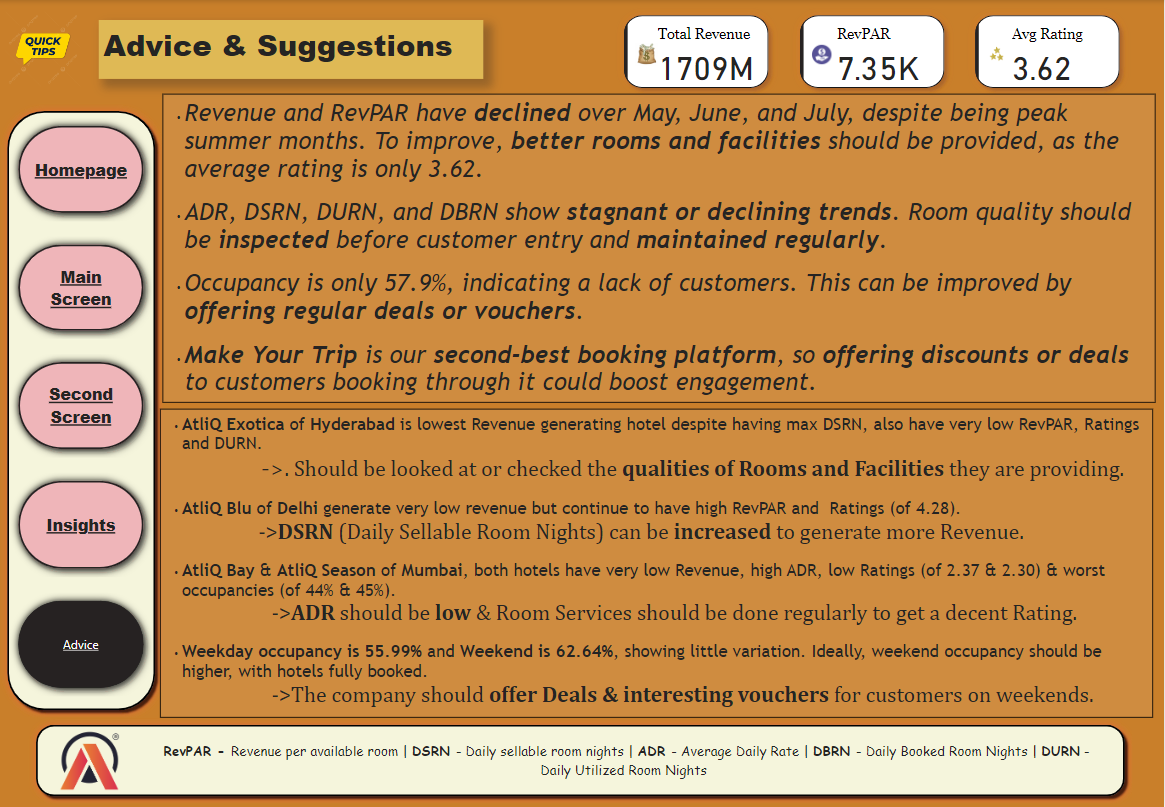

What the dashboard file says about the page in this screenshot:
{"tool":"powerbi","page":{"name":"Advice","canvas":[1280,890],"ordinal":4},"visuals":[{"type":"shape","box":[0,114.2,178.8,675.4],"z":0,"group":"g1"},{"type":"shape","box":[31.6,789.6,1214.2,94.8],"z":0,"group":"g2"},{"type":"group","id":"g1","title":"Group 2","box":[0,0,1271.7,884.5],"z":16},{"type":"pageNavigator","box":[10.9,129,156.8,114.6],"z":1000,"group":"g1"},{"type":"image","box":[57.7,799.2,83.8,75.5],"z":1000,"group":"g2"},{"type":"pageNavigator","box":[10.9,259.8,156.8,113.4],"z":2000,"group":"g1"},{"type":"textbox","box":[153.8,811.6,1064.5,63.2],"z":2000,"group":"g2"},{"type":"pageNavigator","box":[10.9,389.4,156.8,114.6],"z":3000,"group":"g1"},{"type":"pageNavigator","box":[11,520.2,156.8,115.5],"z":4000,"group":"g1"},{"type":"pageNavigator","box":[11,652,156.8,114.2],"z":5000,"group":"g1"},{"type":"cardVisual","fields":{"Data":["Key Measures.Total Revenue","Key Measures.RevPAR","Key Measures.Avg Rating"]},"box":[670.1,0,579.6,114.9],"z":6000,"group":"g1"},{"type":"textbox","box":[108.5,21.7,423.3,65.1],"z":7000,"group":"g1"},{"type":"textbox","box":[176,449.9,1093,340.1],"z":8000,"group":"g1"},{"type":"image","box":[0,7,95,95],"z":9000,"group":"g1"},{"type":"textbox","box":[178.5,102.7,1093.2,339.9],"z":10000,"group":"g1"},{"type":"group","id":"g2","title":"Group 1","box":[31.6,789.6,1214.6,94.9],"z":11000,"group":"g1"}]}

Visuals, with their boxes in screenshot pixels (x1, y1, x2, y2), scaled from the page's 1280x890 canvas onto the 1165x807 screenshot:
shape: <region>0, 104, 163, 716</region>
shape: <region>29, 716, 1134, 802</region>
"Group 2" group: <region>0, 0, 1157, 802</region>
pageNavigator: <region>10, 117, 153, 221</region>
image: <region>53, 725, 129, 793</region>
pageNavigator: <region>10, 236, 153, 338</region>
textbox: <region>140, 736, 1109, 793</region>
pageNavigator: <region>10, 353, 153, 457</region>
pageNavigator: <region>10, 472, 153, 576</region>
pageNavigator: <region>10, 591, 153, 695</region>
cardVisual - Key Measures.Total Revenue x Key Measures.RevPAR: <region>610, 0, 1137, 104</region>
textbox: <region>99, 20, 484, 79</region>
textbox: <region>160, 408, 1155, 716</region>
image: <region>0, 6, 86, 92</region>
textbox: <region>162, 93, 1157, 401</region>
"Group 1" group: <region>29, 716, 1134, 802</region>
